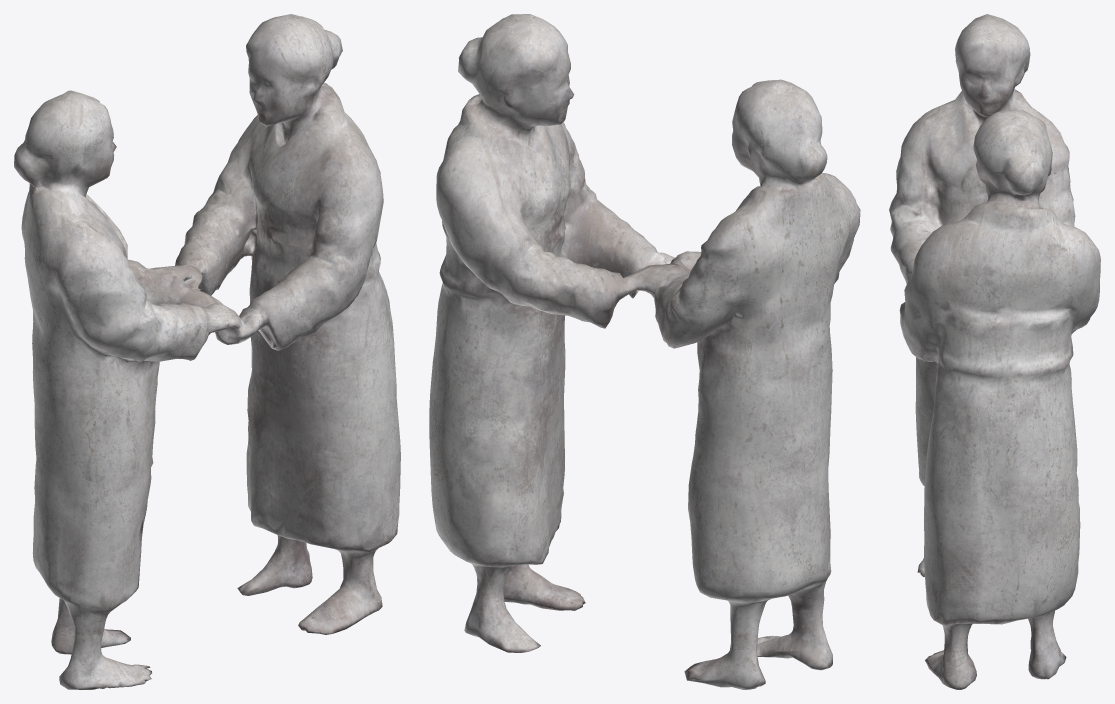
The model's file is women.glb.
3 views of the same model, side by side, from view 1: azimuth 30°, elevation 25°; view 2: azimuth 150°, elevation 25°; view 3: azimuth 270°, elevation 25° (orthographic). The views are drawn at different scales.
Visible parts, largest first — view 1: 메쉬; view 2: 메쉬; view 3: 메쉬.
Boxes of the visible parts, <box> form: 메쉬: <box>14,14,400,689</box>; 메쉬: <box>429,14,860,689</box>; 메쉬: <box>889,14,1100,689</box>.
Size of the model in its own units: 1.06 by 1.62 by 0.5641.
Materials: 1 (1 with a texture image).
